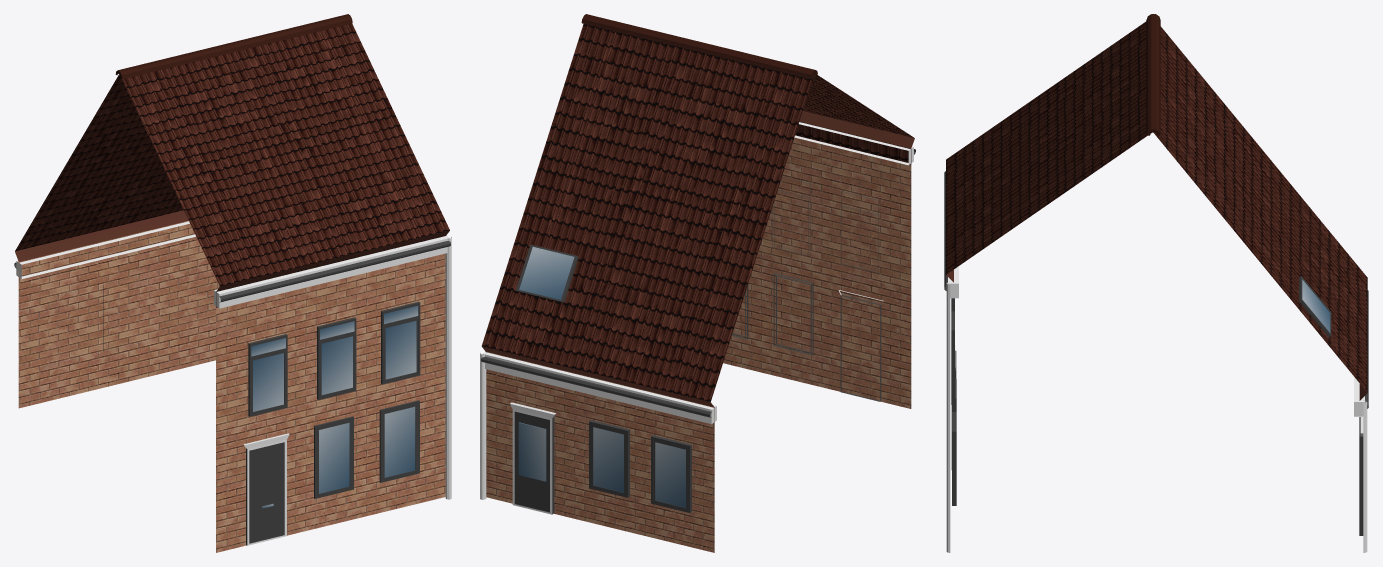
The model's file is It_Buthus_7.fbx.
3 views of the same model, side by side, from view 1: azimuth 30°, elevation 25°; view 2: azimuth 150°, elevation 25°; view 3: azimuth 270°, elevation 25° (orthographic). The views are drawn at different scales.
Visible parts, largest first — view 1: It_Buthus_7; view 2: It_Buthus_7; view 3: It_Buthus_7.
Boxes of the visible parts, box(x1,y1,x2,y2) form: It_Buthus_7: box(14, 14, 451, 552); It_Buthus_7: box(480, 14, 915, 552); It_Buthus_7: box(944, 14, 1368, 552).
Bounding box in the file's own units: 612 × 1031 × 939.
